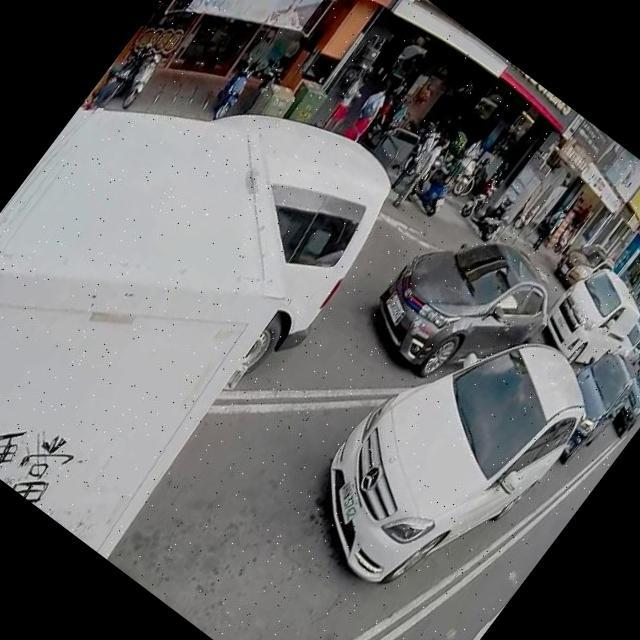person: (386, 132, 452, 212), (386, 120, 448, 194), (320, 66, 378, 136), (340, 78, 398, 145), (439, 134, 489, 194), (370, 77, 412, 126), (527, 204, 568, 254)
